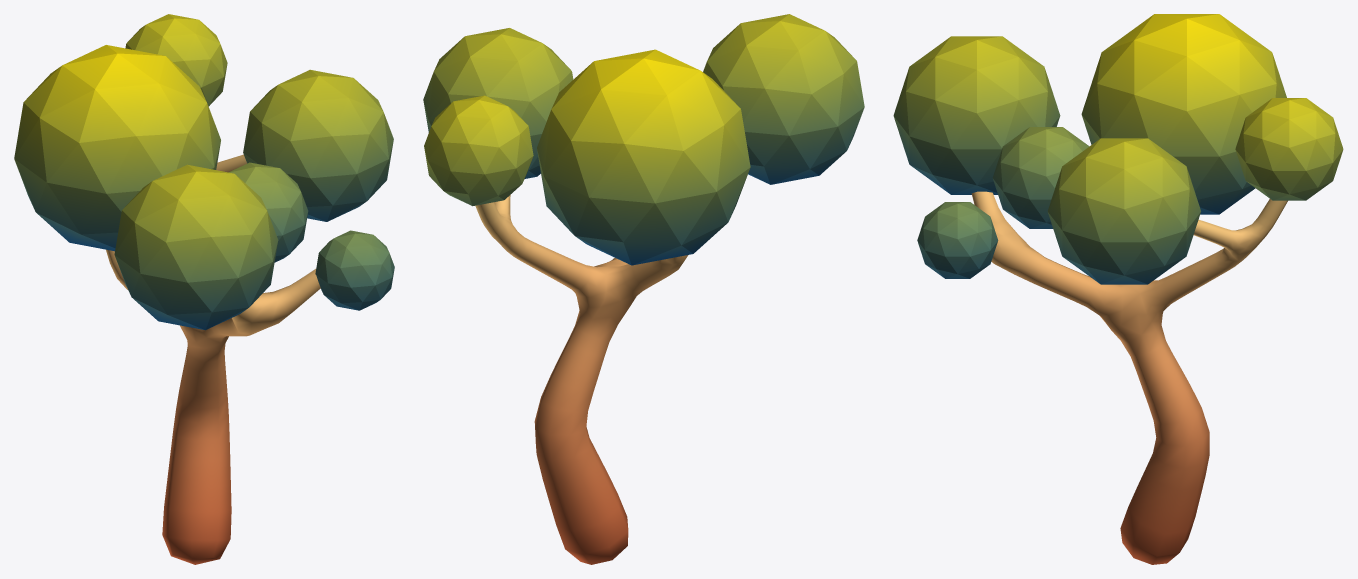
The model's file is gradienttree.fbx.
3 views of the same model, side by side, from view 1: azimuth 30°, elevation 25°; view 2: azimuth 150°, elevation 25°; view 3: azimuth 270°, elevation 25° (orthographic). The views are drawn at different scales.
Parts seen in each view (by area): view 1: Icosphere.004, Plane; view 2: Icosphere.004, Plane; view 3: Icosphere.004, Plane.
Part boxes in pixels (x1,y1,x2,y2): Icosphere.004: (14, 14, 394, 330); Plane: (106, 154, 320, 564); Icosphere.004: (423, 14, 864, 265); Plane: (475, 195, 688, 564); Icosphere.004: (893, 14, 1343, 284); Plane: (971, 191, 1287, 564).
Bounding box in the file's own units: 423 × 629 × 503.
1 material, 1 textured.
